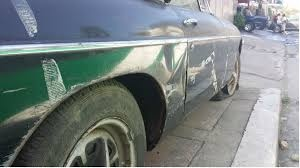Dent: (148, 24, 197, 111)
